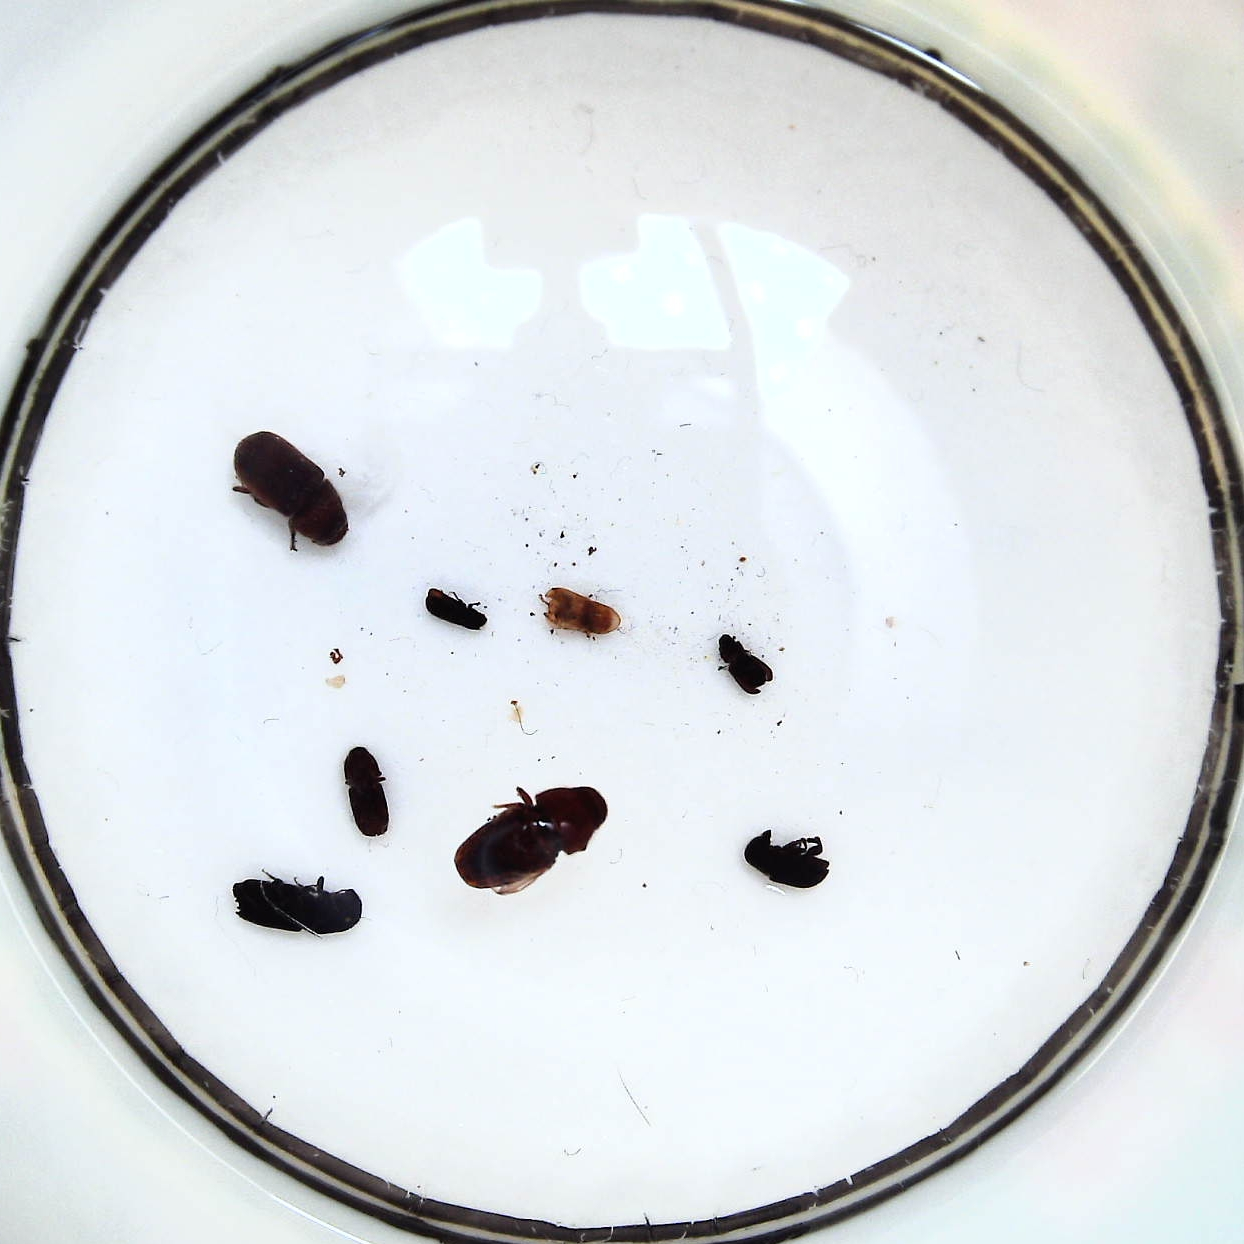Boerner: (232, 881, 363, 933)
Leconte: (455, 783, 609, 886), (234, 432, 347, 546)
acuminatus: (718, 635, 772, 694), (424, 588, 488, 631)
armandi: (744, 830, 829, 887)
coleoptera: (545, 586, 621, 637)
linnaeus: (343, 746, 390, 838)
